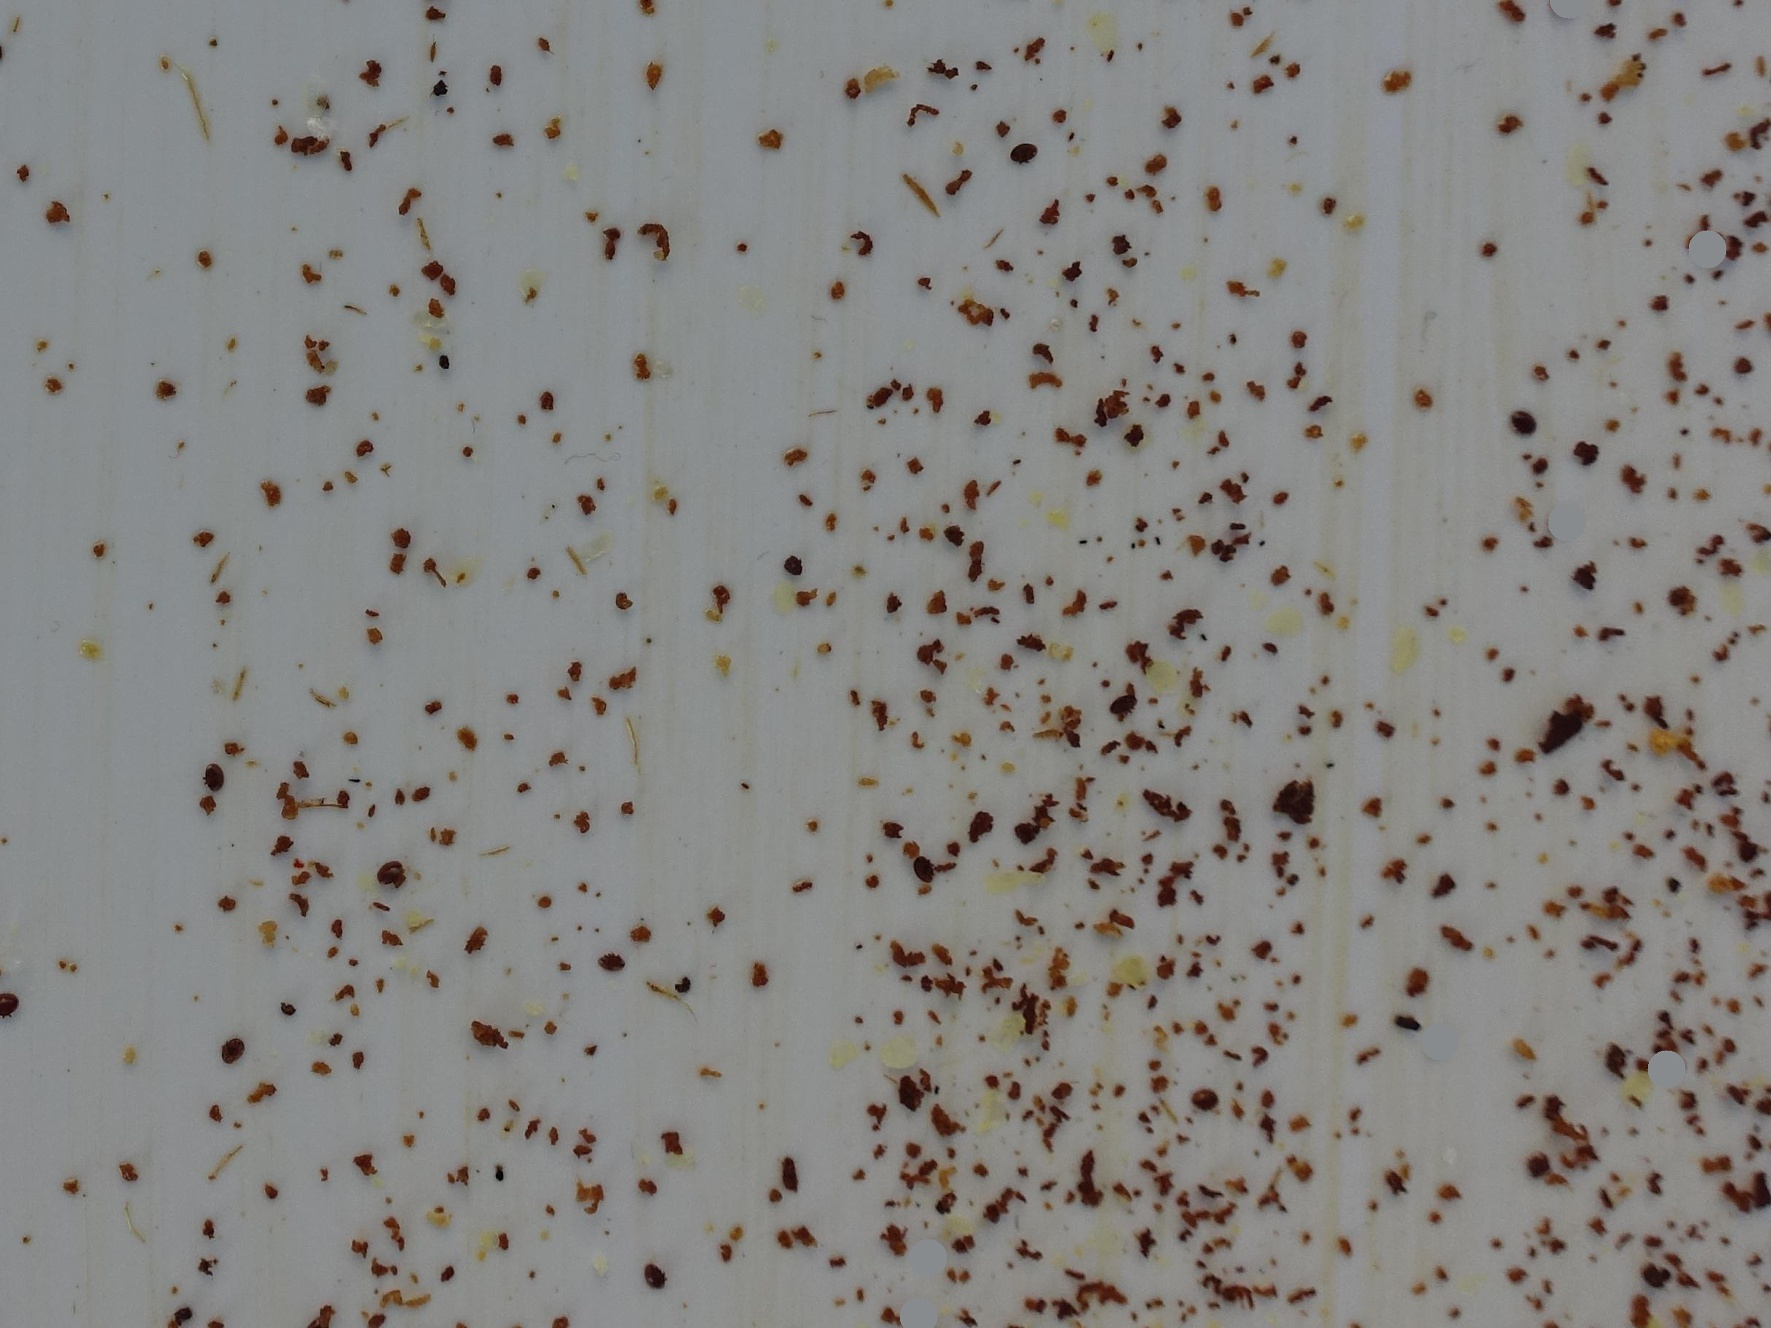Varroa: (1103, 691, 1131, 721), (201, 760, 229, 787), (381, 855, 407, 882), (1005, 141, 1031, 169), (595, 949, 623, 974), (220, 1034, 245, 1057), (641, 1265, 667, 1288), (1510, 409, 1533, 432), (913, 857, 937, 879), (1196, 1082, 1217, 1108)
